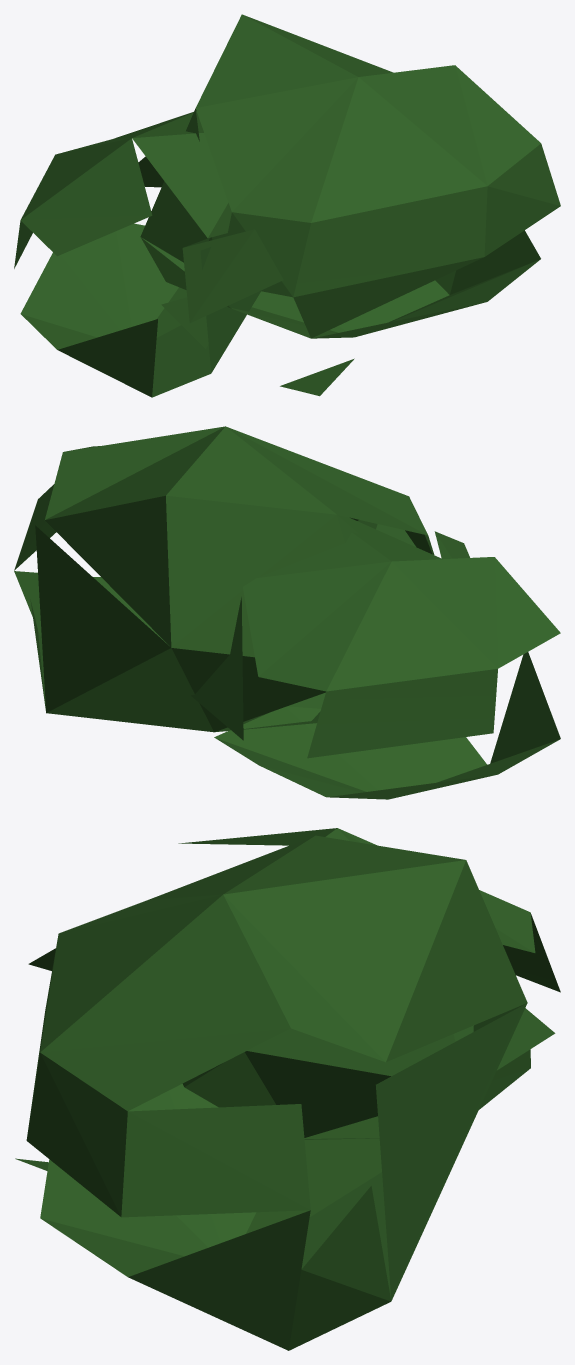
File: Bush1_low.glb
3 renders of one model, top to bottom at view 1: azimuth 30°, elevation 25°; view 2: azimuth 150°, elevation 25°; view 3: azimuth 270°, elevation 25°, orthographic. The views are drawn at different scales.
Visible parts, largest first — view 1: Bush_temp_climate_003; view 2: Bush_temp_climate_003; view 3: Bush_temp_climate_003.
Boxes of the visible parts, x1,y1,x2,y2 form: Bush_temp_climate_003: [14, 14, 560, 397]; Bush_temp_climate_003: [14, 426, 560, 799]; Bush_temp_climate_003: [15, 828, 560, 1350].
Size of the model in its own units: 1.53 by 0.8506 by 1.08.
